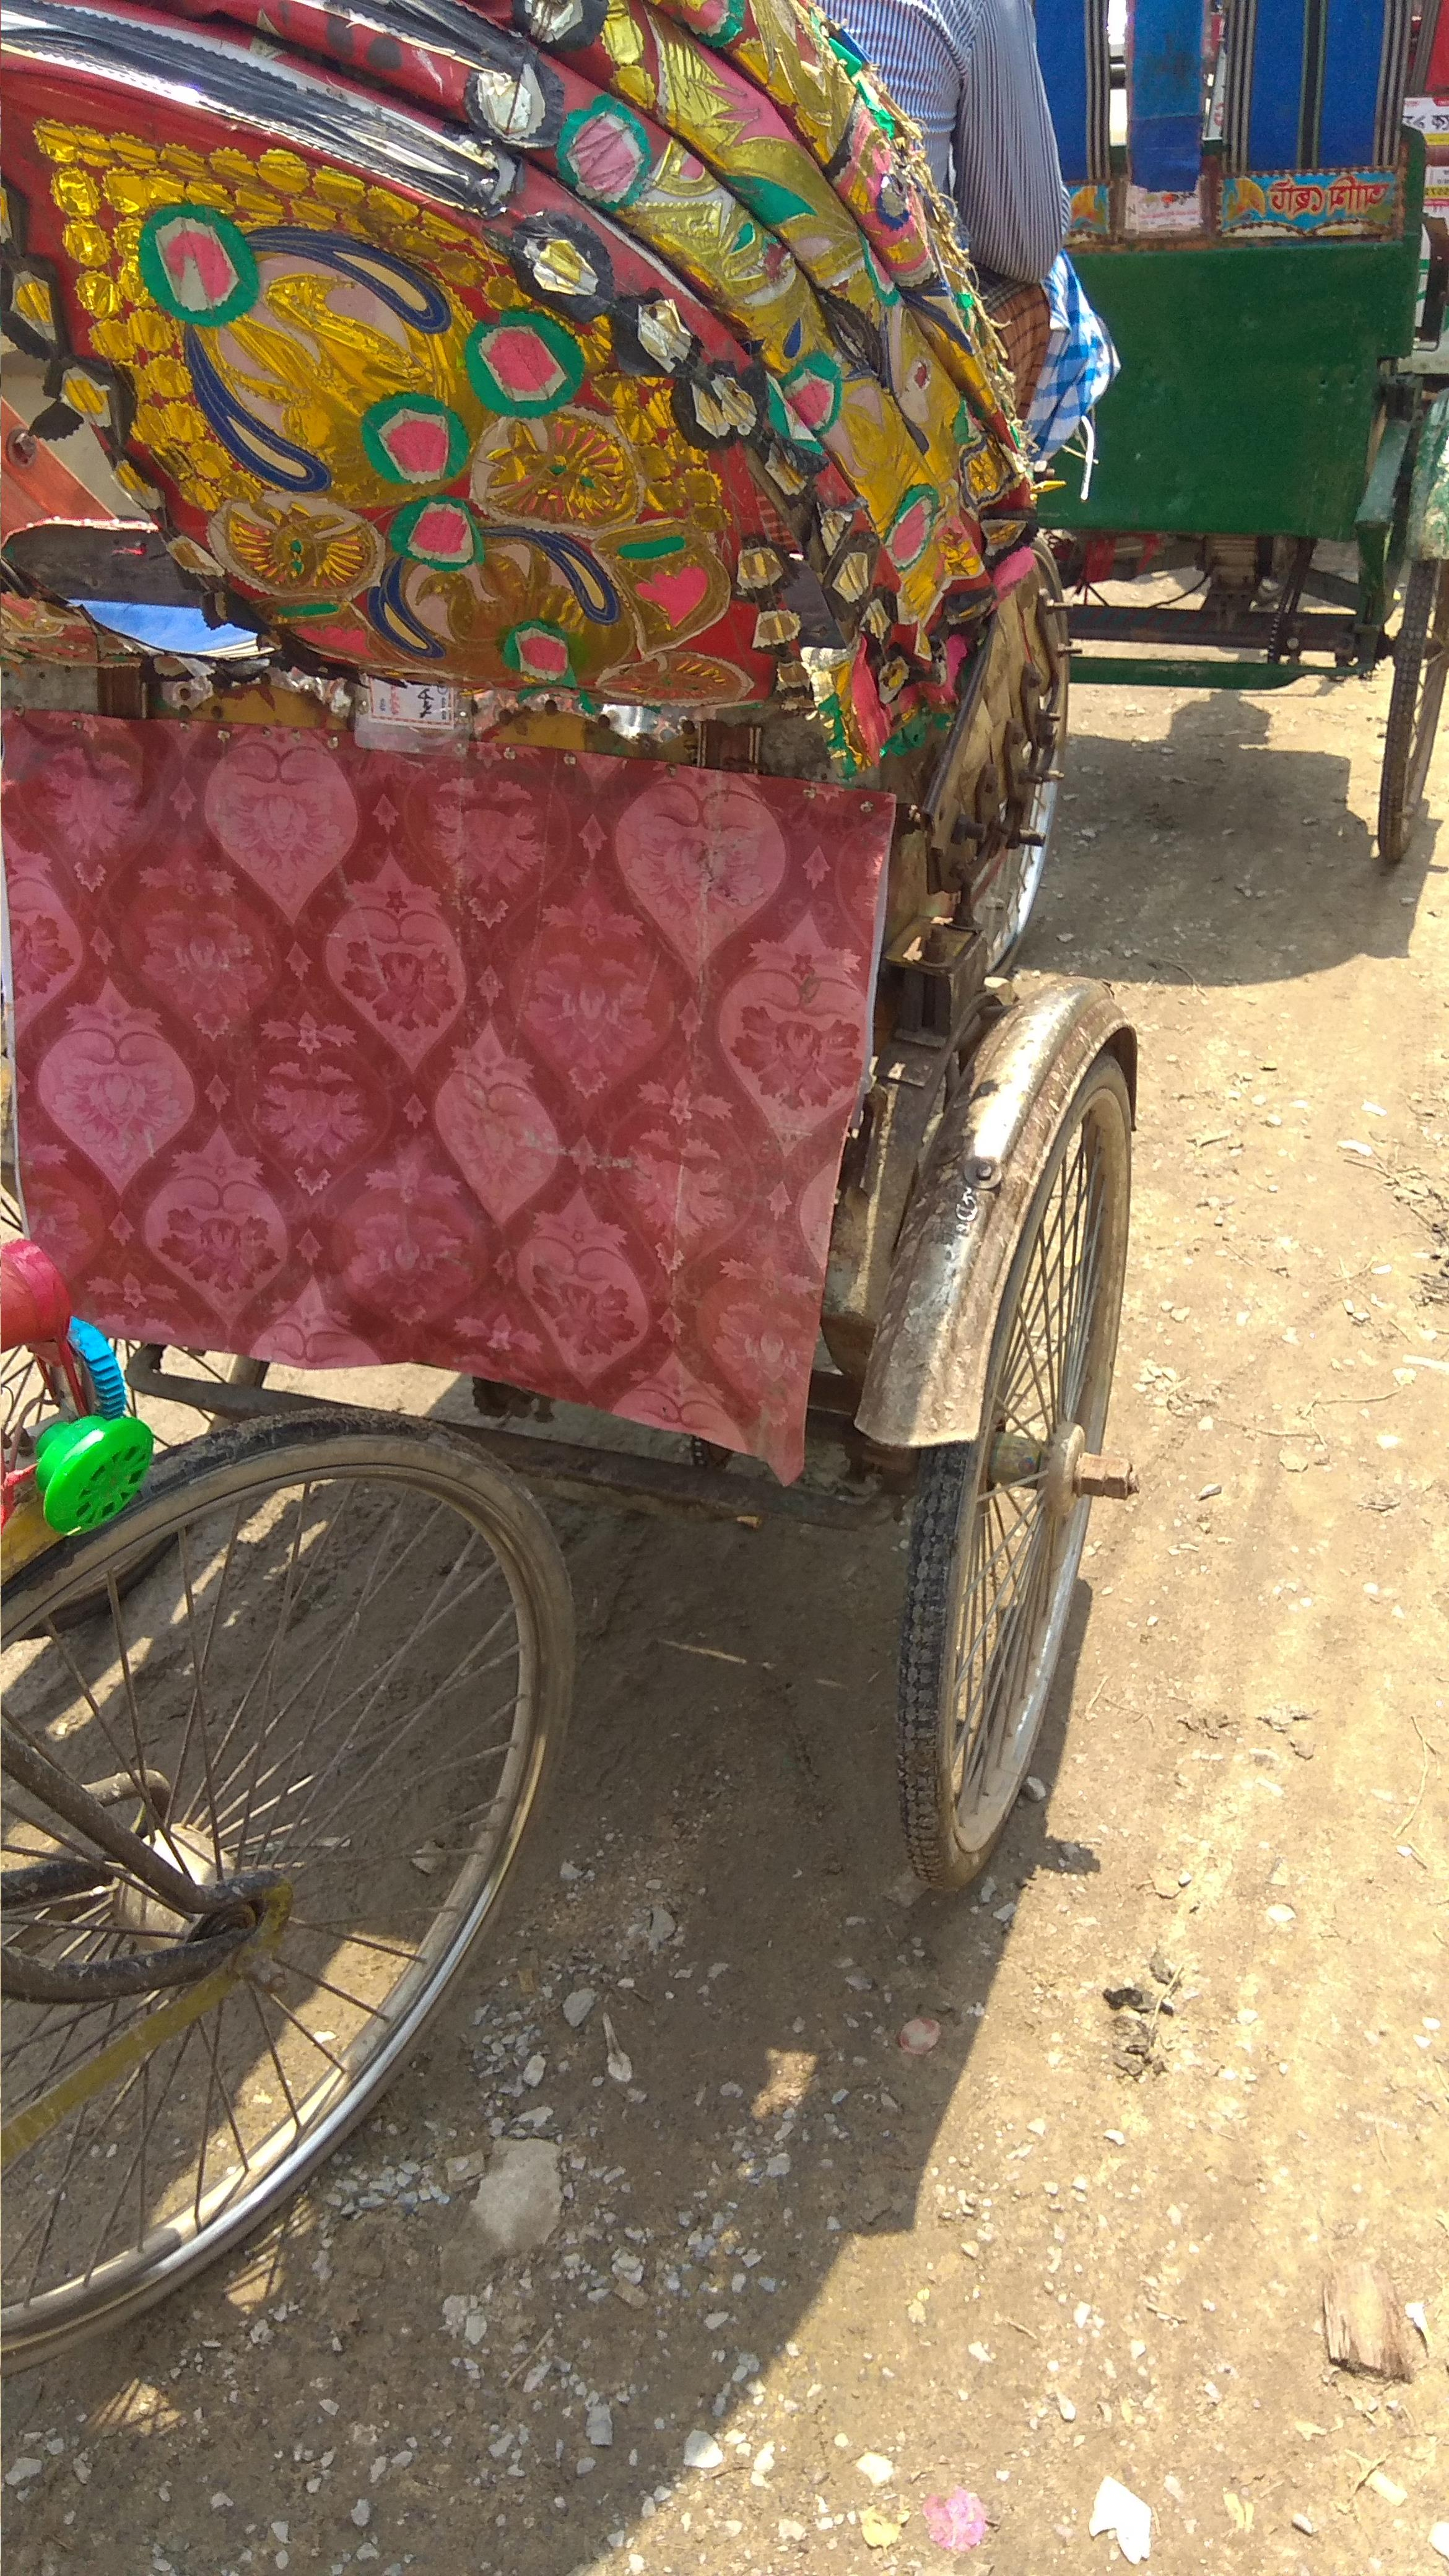Rickshaw: (9, 11, 1246, 1978), (980, 11, 1444, 819)
